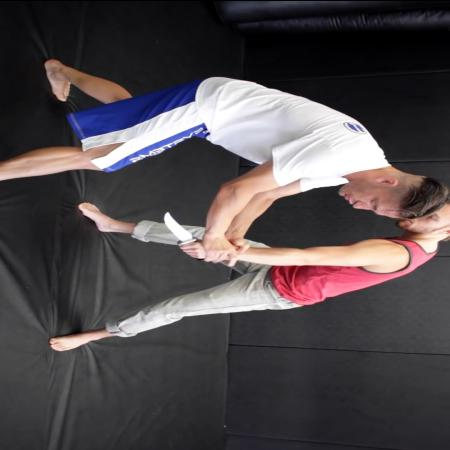long weapon: (160, 210, 206, 262)
